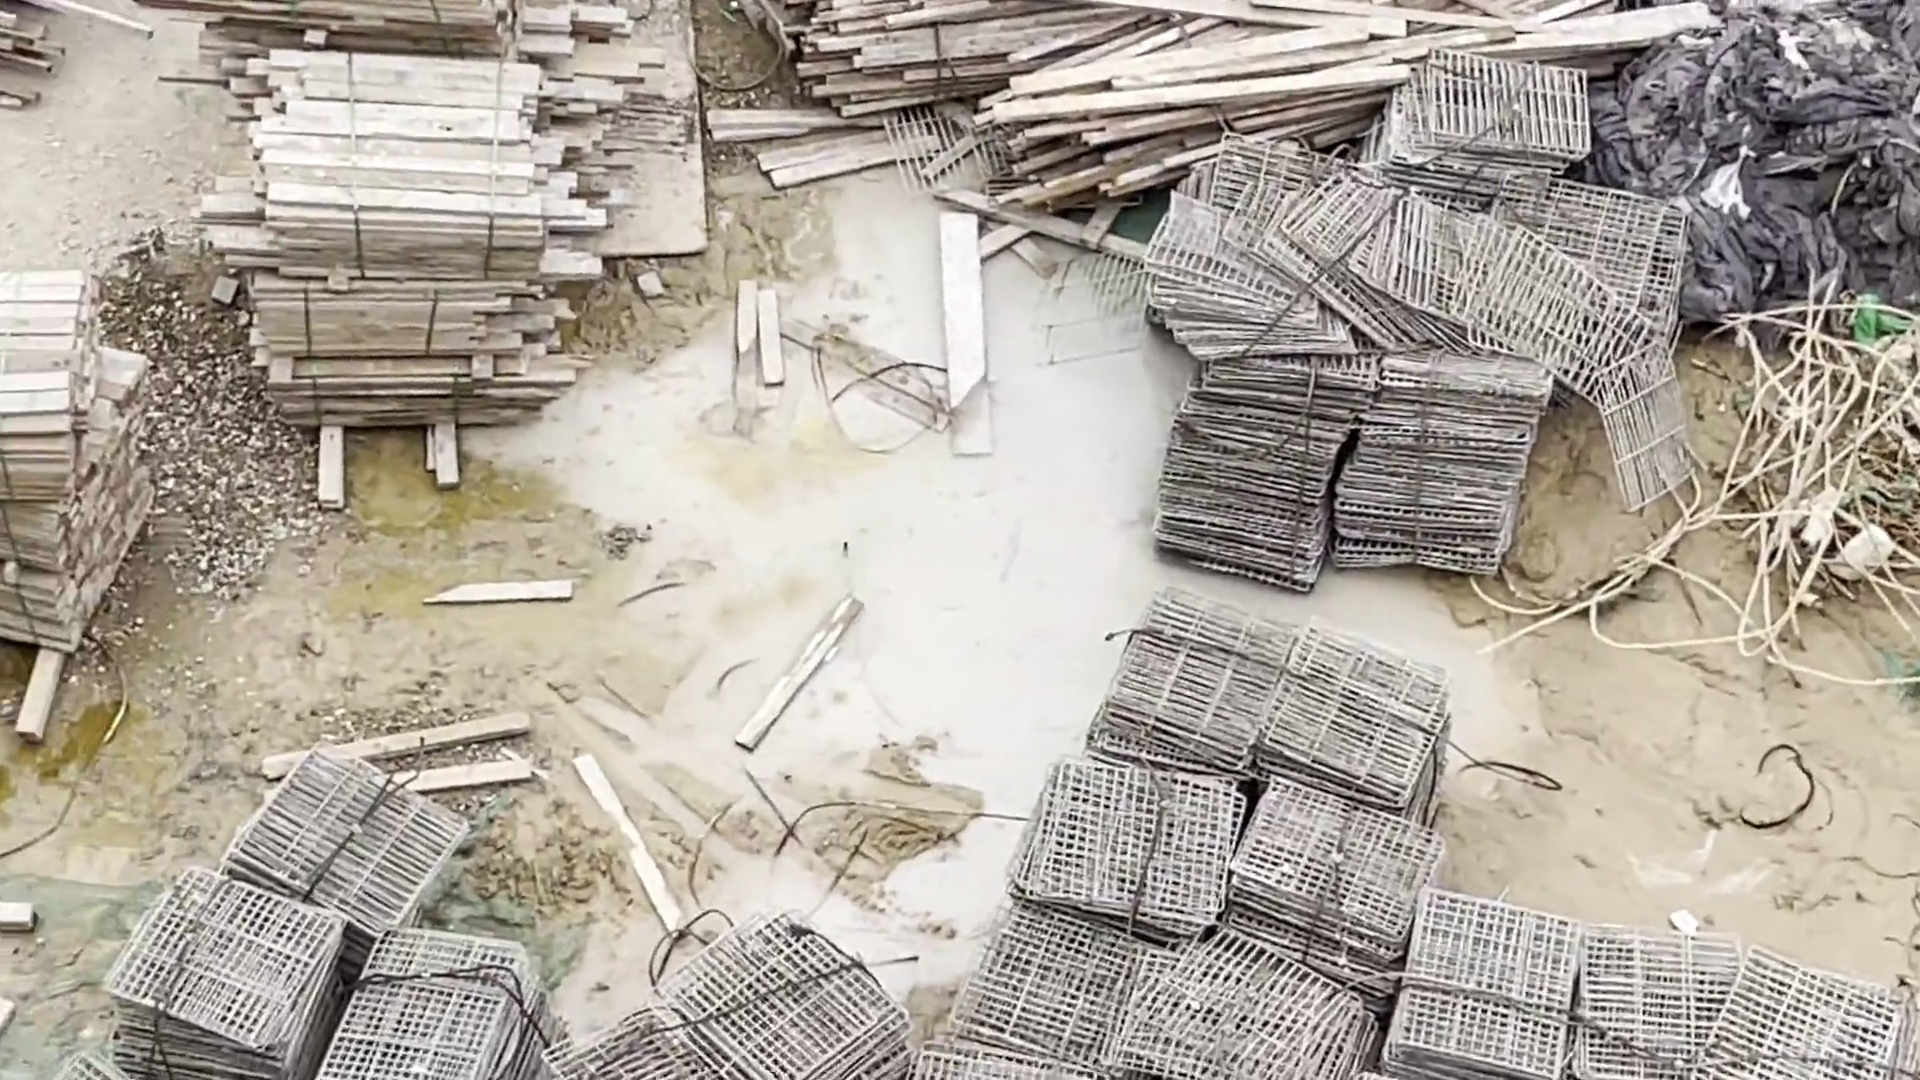wood: (179, 7, 654, 480), (824, 7, 1698, 175), (4, 251, 144, 761)
